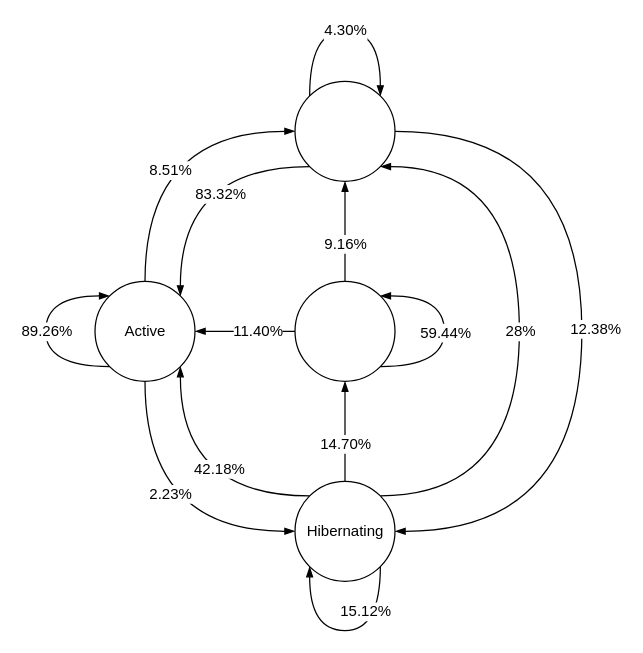
This 643x653 diagram has some shape labels left out. The centre of each missing label's shape, as x and y in pixels:
Dead: (x=344, y=330)
Sleeping: (x=344, y=130)
